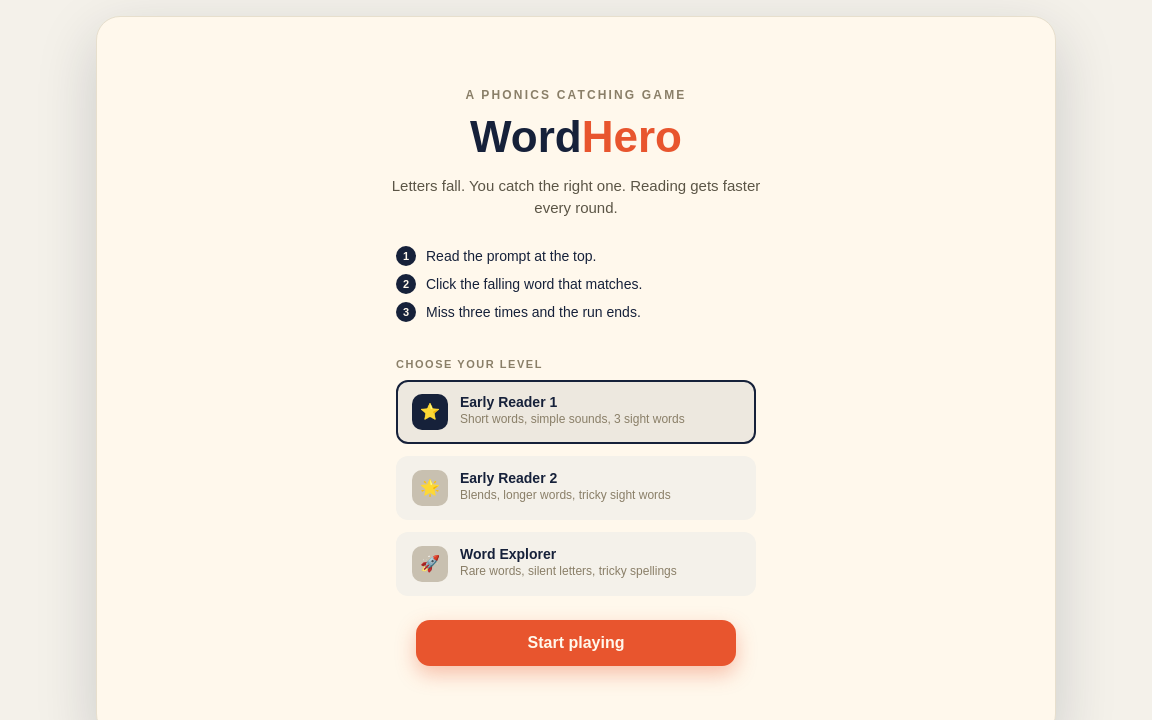
Scenario: WordHero — difficulty selection › can start a game with Early Reader 2
The width and height of the screenshot is (1152, 720).
Click the button "🌟 Early Reader 2 Blends, longer words, tricky sight words" at (576, 488), box [396, 456, 756, 520]
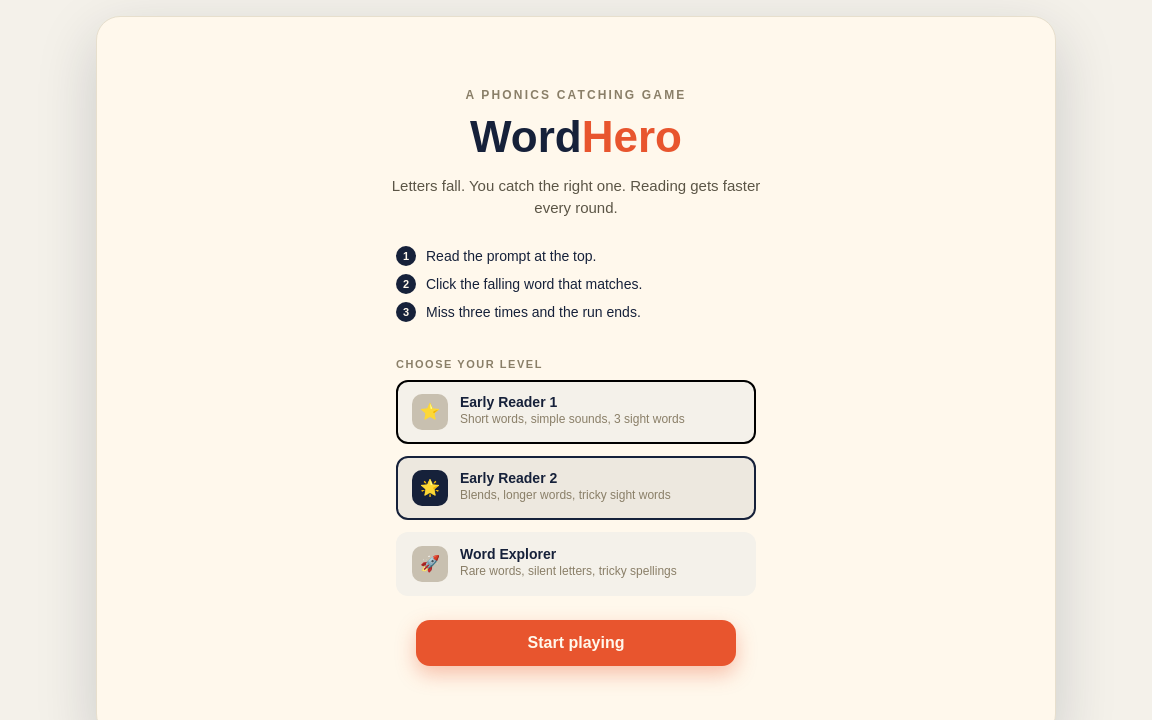
Click the button "Start playing" at (576, 643), box [416, 620, 736, 666]
Wait 2700 ms
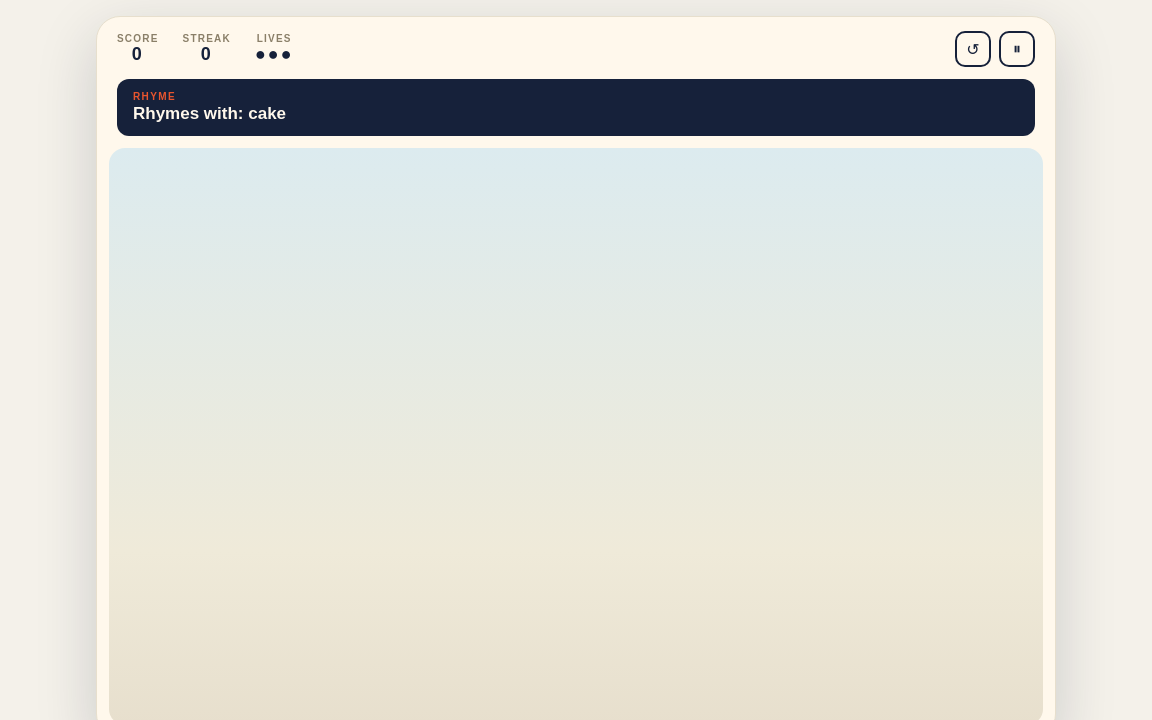
Expected: the text "SCORE" is shown, [117, 33, 159, 44]
